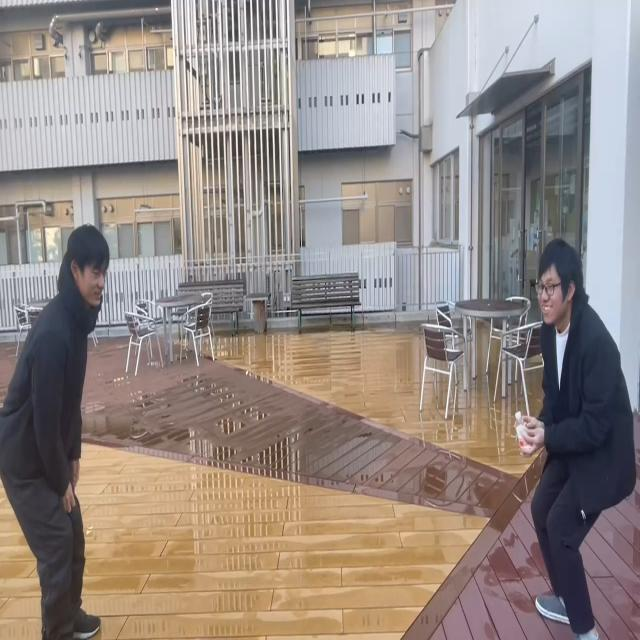bottle: (513, 406, 532, 456)
